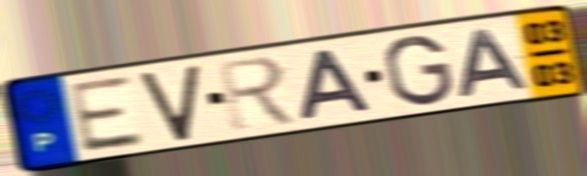A: (297, 45, 377, 123), (456, 25, 534, 100)
E: (64, 73, 150, 156)
G: (381, 33, 457, 109)
R: (214, 53, 302, 133)
V: (136, 61, 203, 145)
